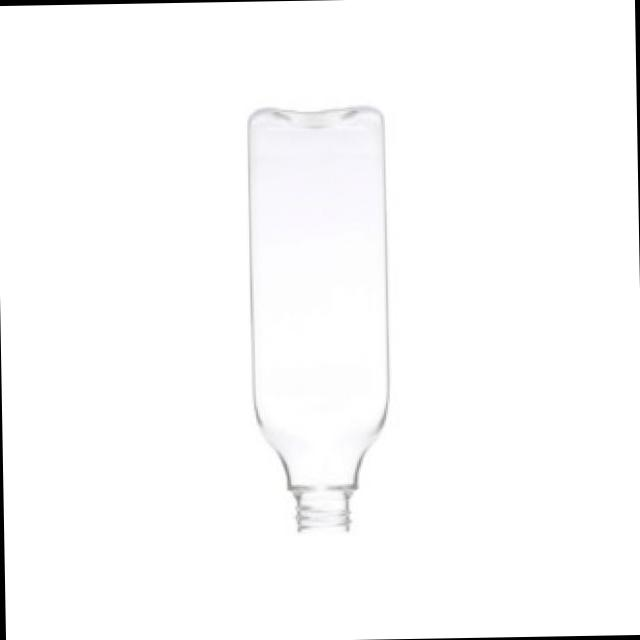BotolPlastik: (245, 106, 394, 537)
